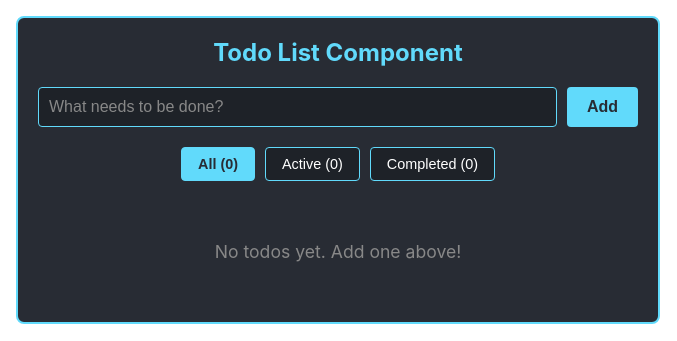
Test case: TodoList › adds a new todo
Step 1. Type "New Todo" into the field with test id "todo-input" showing "What needs to be done?" → (297, 107), box [38, 87, 557, 127]
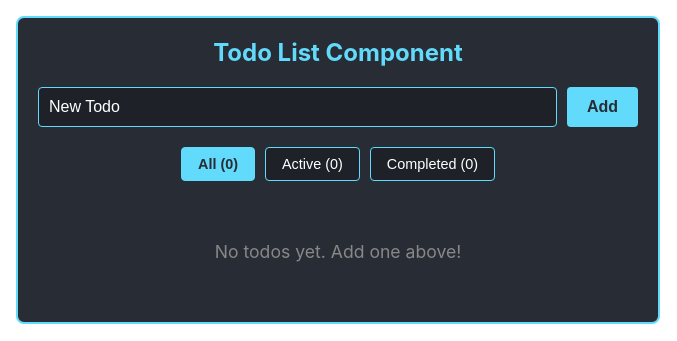
Step 2. Click the button with test id "add-todo-btn" → (602, 107), box [567, 87, 638, 127]
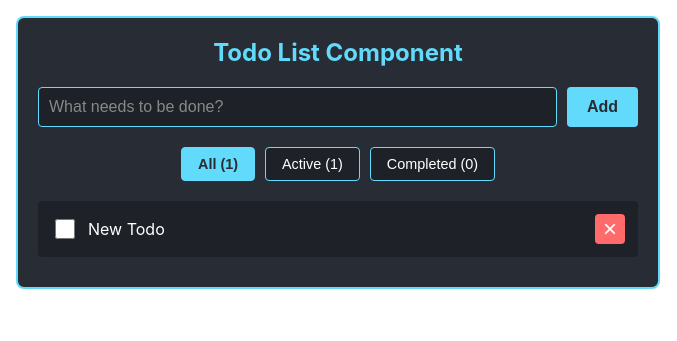
Expected: the text "New Todo" is shown, [88, 219, 165, 239]
